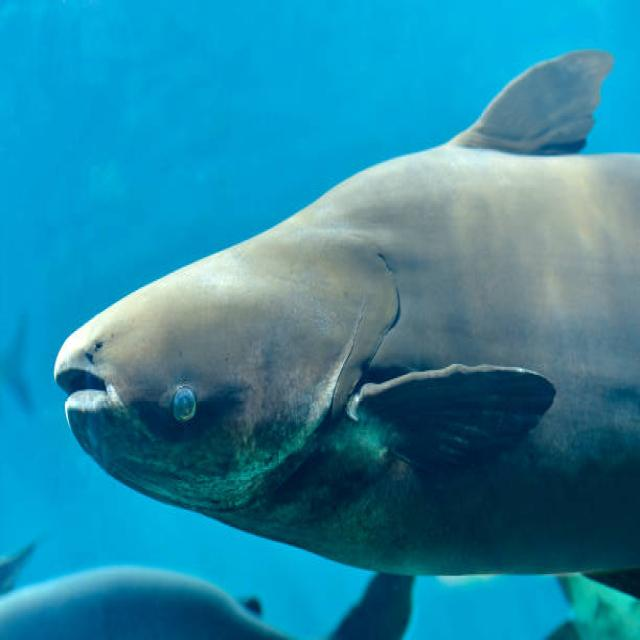Mekong_Giant_Catfish: (51, 46, 638, 599)
